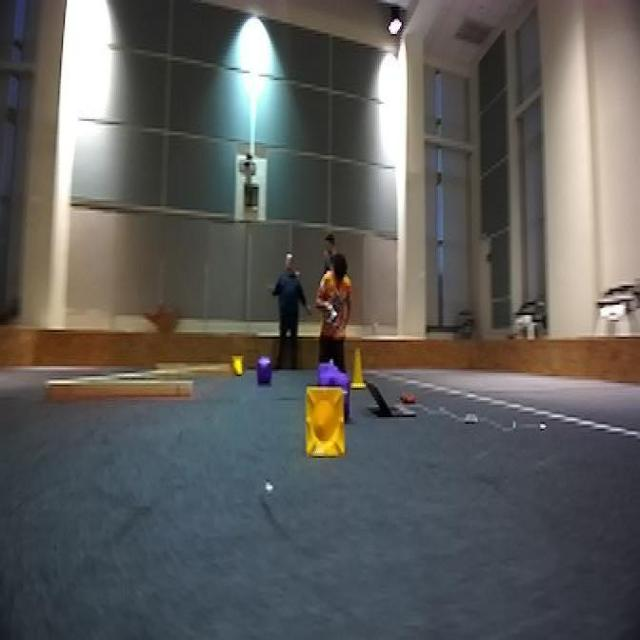frc_cone: (302, 381, 352, 465), (348, 349, 368, 386), (230, 351, 248, 378)
frc_cube: (334, 376, 356, 415), (260, 354, 273, 397)
